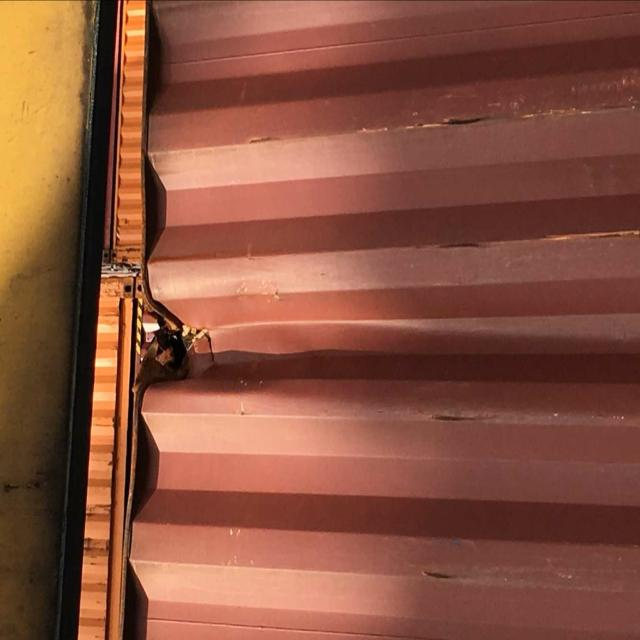dent: (128, 263, 222, 419), (400, 109, 522, 135), (432, 409, 502, 432), (435, 237, 503, 258), (420, 566, 464, 586), (251, 130, 289, 149)
